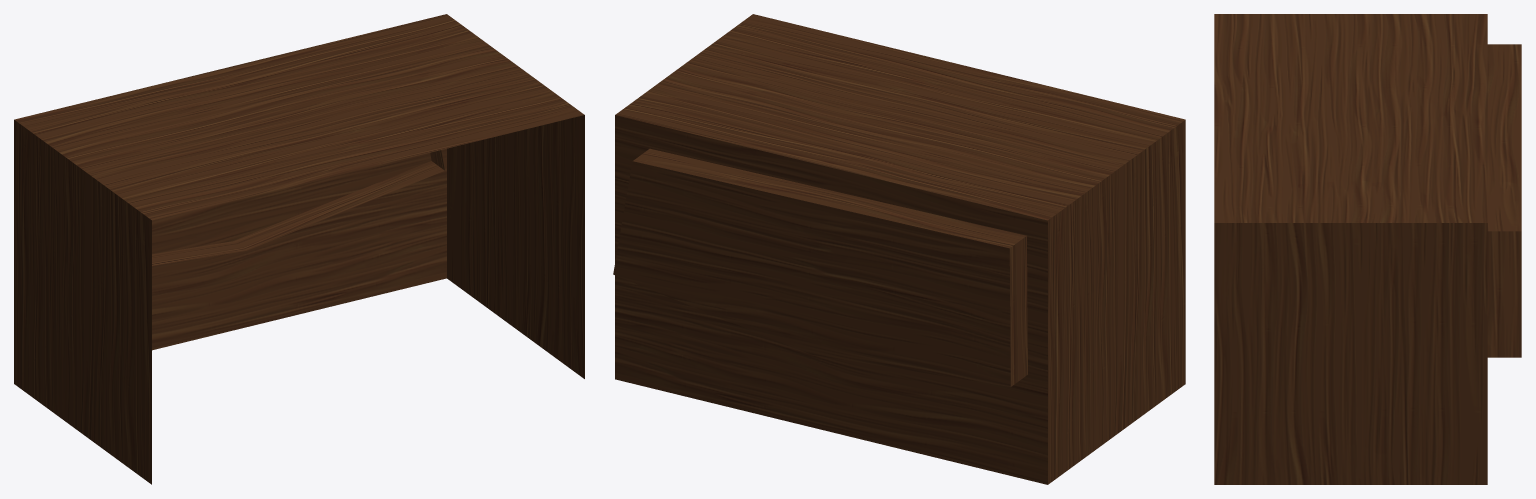
File: Cabinet.fbx
The picture shows the model from 3 angles, left to right: view 1: azimuth 30°, elevation 25°; view 2: azimuth 150°, elevation 25°; view 3: azimuth 270°, elevation 25°; orthographic projection.
Visible parts, largest first — view 1: Cabinet; view 2: Cabinet; view 3: Cabinet.
Part boxes in pixels (left/top/right/bottom): Cabinet: left=14, top=14, right=584, bottom=484; Cabinet: left=613, top=14, right=1185, bottom=484; Cabinet: left=1214, top=14, right=1521, bottom=484.
Bounding box in the file's own units: 8452 × 4935 × 5249.
